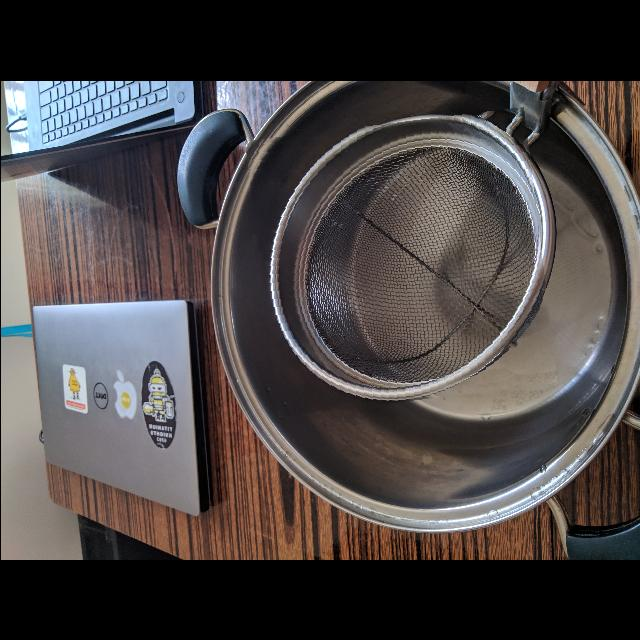Strainer: (262, 116, 538, 404)
